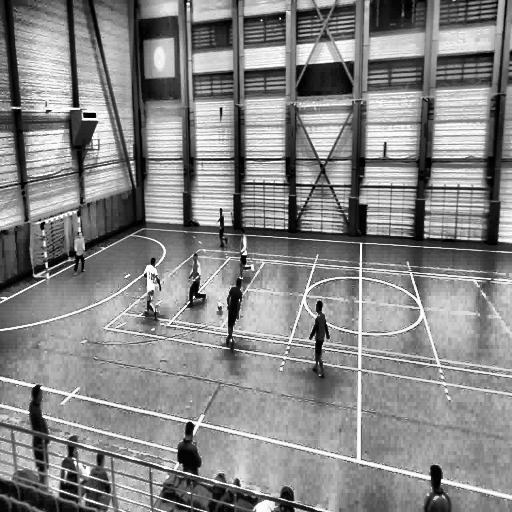ball: (217, 302, 222, 310)
player: (29, 386, 50, 488), (308, 300, 328, 379), (226, 277, 243, 349), (144, 256, 162, 320), (188, 253, 206, 307), (239, 228, 254, 281), (73, 229, 85, 274), (217, 209, 228, 248)
